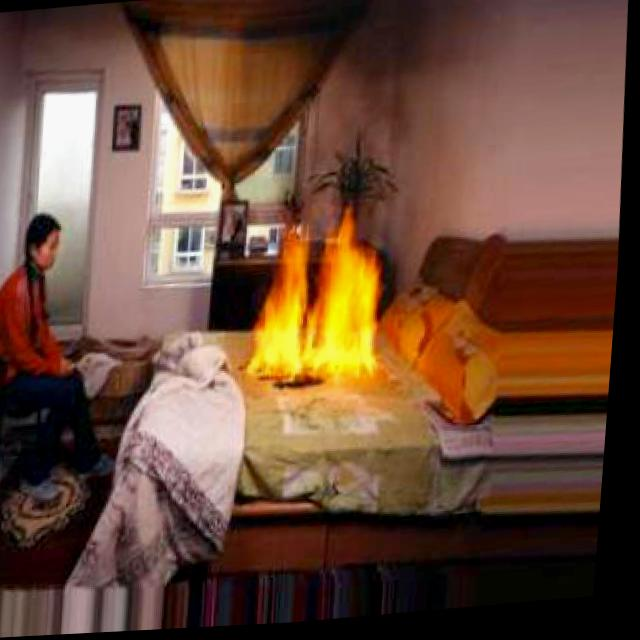helmet: (249, 202, 398, 398)
